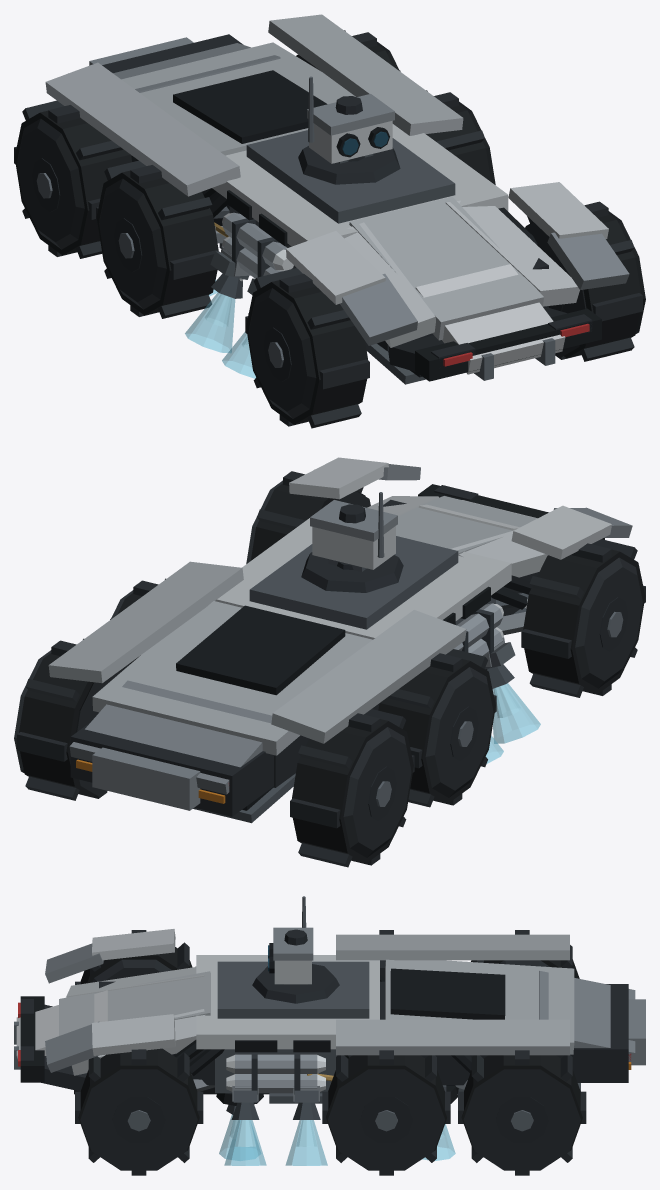
File: r47x_recon_rover_d0_lod1.meshopt.glb
The picture shows the model from 3 angles, top to bottom: view 1: azimuth 30°, elevation 25°; view 2: azimuth 150°, elevation 25°; view 3: azimuth 270°, elevation 25°; orthographic projection. The views are drawn at different scales.
Visible parts, largest first — view 1: CHASSIS_ARMOR_BODY, WHEEL_SET_L, WHEEL_SET_R, SENSOR_MAST_HEAD, COLD_GAS_PLUMES, LATERAL_THRUSTER_CLUSTER, SUSPENSION_ARMS_L; view 2: CHASSIS_ARMOR_BODY, WHEEL_SET_L, WHEEL_SET_R, SENSOR_MAST_HEAD, COLD_GAS_PLUMES, SUSPENSION_ARMS_L, LATERAL_THRUSTER_CLUSTER; view 3: CHASSIS_ARMOR_BODY, WHEEL_SET_R, COLD_GAS_PLUMES, WHEEL_SET_L, SENSOR_MAST_HEAD, LATERAL_THRUSTER_CLUSTER, SUSPENSION_ARMS_R.
Part boxes in pixels (box(x1,y1,x2,y2)): CHASSIS_ARMOR_BODY: box(45, 14, 629, 384); WHEEL_SET_L: box(14, 100, 369, 428); WHEEL_SET_R: box(296, 30, 645, 361); SENSOR_MAST_HEAD: box(307, 76, 394, 163); COLD_GAS_PLUMES: box(185, 279, 255, 378); LATERAL_THRUSTER_CLUSTER: box(210, 246, 256, 314); SUSPENSION_ARMS_L: box(131, 155, 229, 243); CHASSIS_ARMOR_BODY: box(48, 457, 632, 823); WHEEL_SET_L: box(290, 539, 645, 867); WHEEL_SET_R: box(14, 471, 370, 800); SENSOR_MAST_HEAD: box(310, 492, 397, 571); COLD_GAS_PLUMES: box(486, 683, 540, 763); SUSPENSION_ARMS_L: box(491, 575, 531, 634); LATERAL_THRUSTER_CLUSTER: box(485, 637, 515, 688); CHASSIS_ARMOR_BODY: box(14, 929, 645, 1105); WHEEL_SET_R: box(75, 1048, 586, 1175); COLD_GAS_PLUMES: box(219, 1114, 455, 1165); WHEEL_SET_L: box(75, 930, 579, 984); SENSOR_MAST_HEAD: box(268, 896, 313, 984); LATERAL_THRUSTER_CLUSTER: box(231, 1086, 320, 1119); SUSPENSION_ARMS_R: box(174, 1040, 487, 1091).
Bounding box in the file's own units: 2.43 × 1.79 × 4.75.
